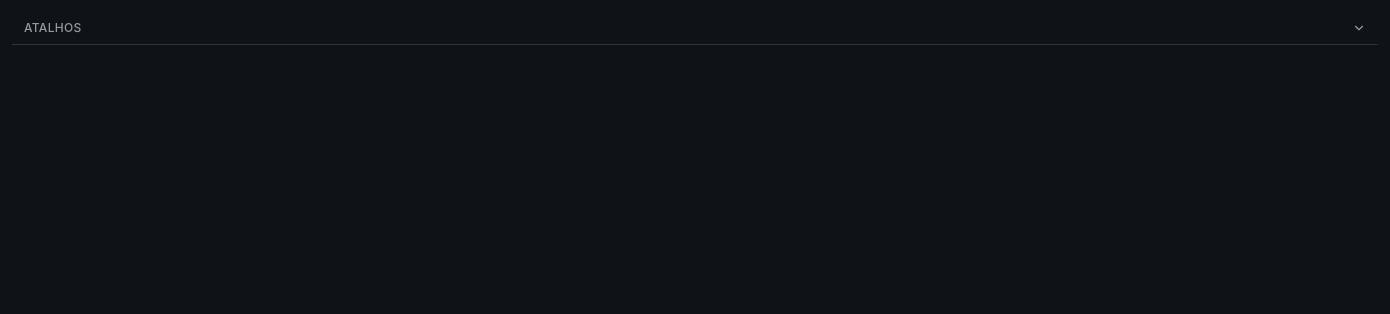
Test: KeyboardShortcutsPanel › mostra o erro quando uma tecla ja esta em uso
Click the button "Atalhos".
click(53, 28)  # box [12,12,1378,44]
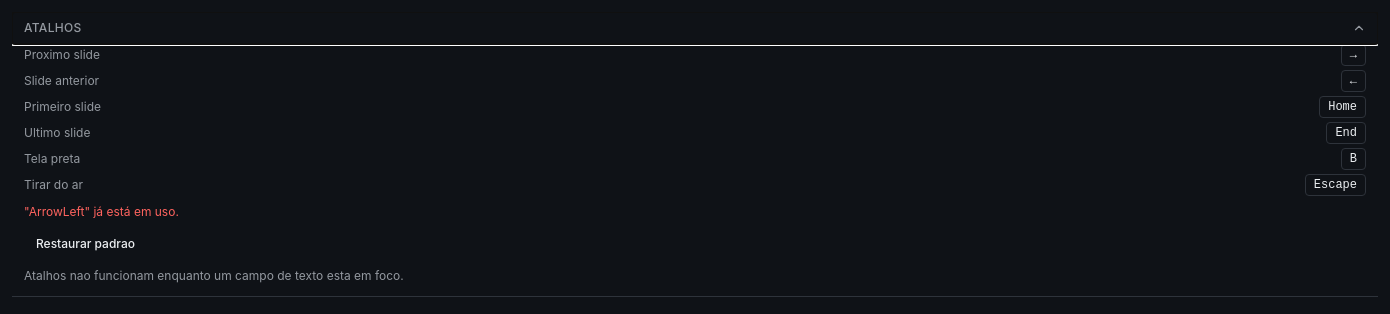
Expected: the message shows "já está em uso", [24,204,179,219]
